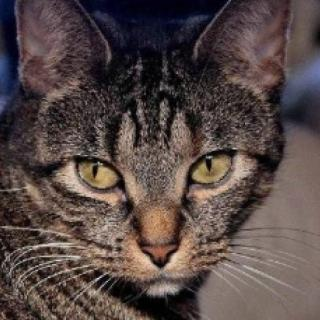cat: (6, 0, 302, 309)
nose: (134, 201, 184, 272)
